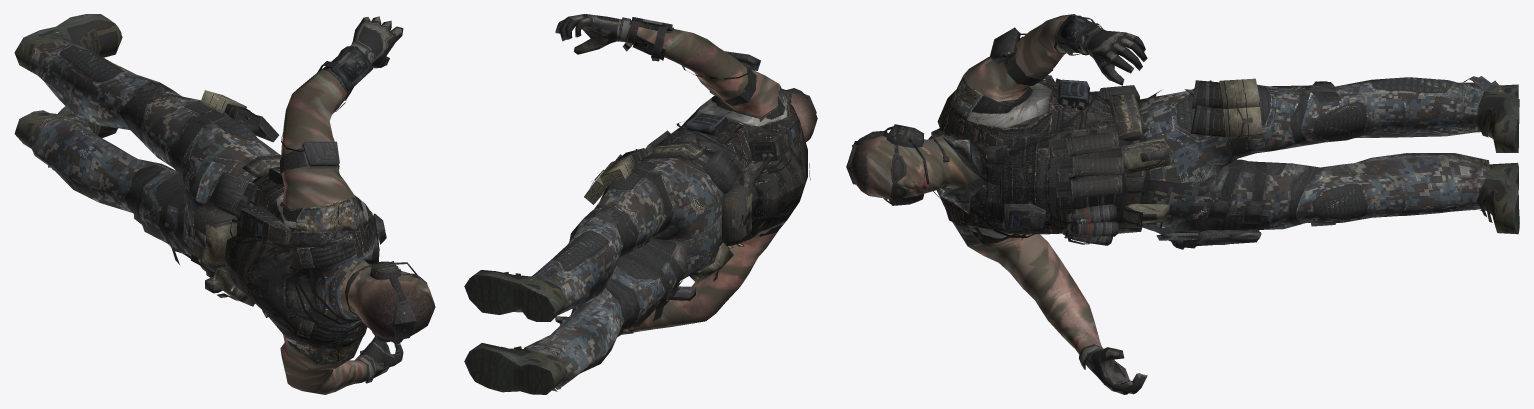
The model's file is c_usa_mp_seal6_smg_fb_LOD1.obj.
3 views of the same model, side by side, from view 1: azimuth 30°, elevation 25°; view 2: azimuth 150°, elevation 25°; view 3: azimuth 270°, elevation 25° (orthographic). The views are drawn at different scales.
Visible parts, largest first — view 1: mtl_c_usa_mp_seal6_pants_1, mtl_c_usa_mp_seal6_vest_1, mtl_c_usa_mp_seal6_smg_arms, mtl_c_usa_mp_seal6_gear, mtl_c_usa_mp_seal6_shoes_1, mtl_c_usa_milcas_mcknight_head_camo, mtl_c_usa_mp_seal6_gloves_2, mtl_c_usa_mp_seal6_smg_gear, mtl_c_gen_mp_datapad; view 2: mtl_c_usa_mp_seal6_pants_1, mtl_c_usa_mp_seal6_vest_1, mtl_c_usa_mp_seal6_smg_arms, mtl_c_usa_mp_seal6_shoes_1, mtl_c_usa_mp_seal6_gear, mtl_c_usa_mp_seal6_gloves_2, mtl_c_usa_mp_seal6_smg_gear, mtl_c_usa_milcas_mcknight_head_camo; view 3: mtl_c_usa_mp_seal6_pants_1, mtl_c_usa_mp_seal6_vest_1, mtl_c_usa_mp_seal6_gear, mtl_c_usa_mp_seal6_smg_arms, mtl_c_usa_milcas_mcknight_head_camo, mtl_c_usa_mp_seal6_shoes_1, mtl_c_usa_mp_seal6_gloves_2, mtl_c_usa_mp_seal6_smg_gear, mtl_c_gen_mp_datapad.
Part boxes in pixels (bbox=[...]): mtl_c_usa_mp_seal6_pants_1: bbox=[28, 39, 371, 315]; mtl_c_usa_mp_seal6_vest_1: bbox=[224, 90, 379, 364]; mtl_c_usa_mp_seal6_smg_arms: bbox=[280, 66, 367, 394]; mtl_c_usa_mp_seal6_gear: bbox=[182, 90, 386, 306]; mtl_c_usa_mp_seal6_shoes_1: bbox=[14, 14, 122, 170]; mtl_c_usa_milcas_mcknight_head_camo: bbox=[340, 260, 435, 340]; mtl_c_usa_mp_seal6_gloves_2: bbox=[350, 16, 403, 383]; mtl_c_usa_mp_seal6_smg_gear: bbox=[317, 46, 427, 344]; mtl_c_gen_mp_datapad: bbox=[331, 46, 373, 90]; mtl_c_usa_mp_seal6_pants_1: bbox=[523, 63, 756, 386]; mtl_c_usa_mp_seal6_vest_1: bbox=[653, 61, 810, 248]; mtl_c_usa_mp_seal6_smg_arms: bbox=[626, 27, 779, 332]; mtl_c_usa_mp_seal6_shoes_1: bbox=[464, 266, 567, 394]; mtl_c_usa_mp_seal6_gear: bbox=[584, 51, 773, 305]; mtl_c_usa_mp_seal6_gloves_2: bbox=[555, 14, 633, 334]; mtl_c_usa_mp_seal6_smg_gear: bbox=[622, 20, 816, 113]; mtl_c_usa_milcas_mcknight_head_camo: bbox=[789, 92, 817, 141]; mtl_c_usa_mp_seal6_pants_1: bbox=[928, 36, 1489, 234]; mtl_c_usa_mp_seal6_vest_1: bbox=[931, 33, 1132, 246]; mtl_c_usa_mp_seal6_gear: bbox=[983, 27, 1262, 249]; mtl_c_usa_mp_seal6_smg_arms: bbox=[963, 14, 1101, 354]; mtl_c_usa_milcas_mcknight_head_camo: bbox=[849, 135, 979, 198]; mtl_c_usa_mp_seal6_shoes_1: bbox=[1462, 76, 1519, 234]; mtl_c_usa_mp_seal6_gloves_2: bbox=[972, 26, 1147, 394]; mtl_c_usa_mp_seal6_smg_gear: bbox=[846, 15, 1102, 205]; mtl_c_gen_mp_datapad: bbox=[1055, 15, 1090, 48].
Bounding box in the file's own units: 66.68 × 106 × 182.
